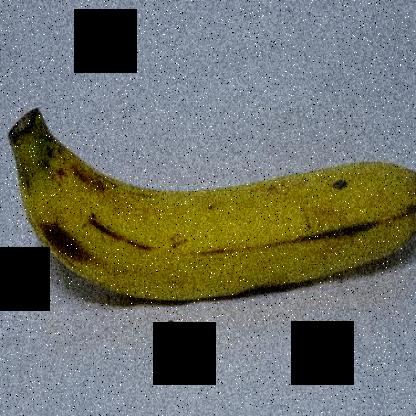ripe: (12, 89, 415, 322)
